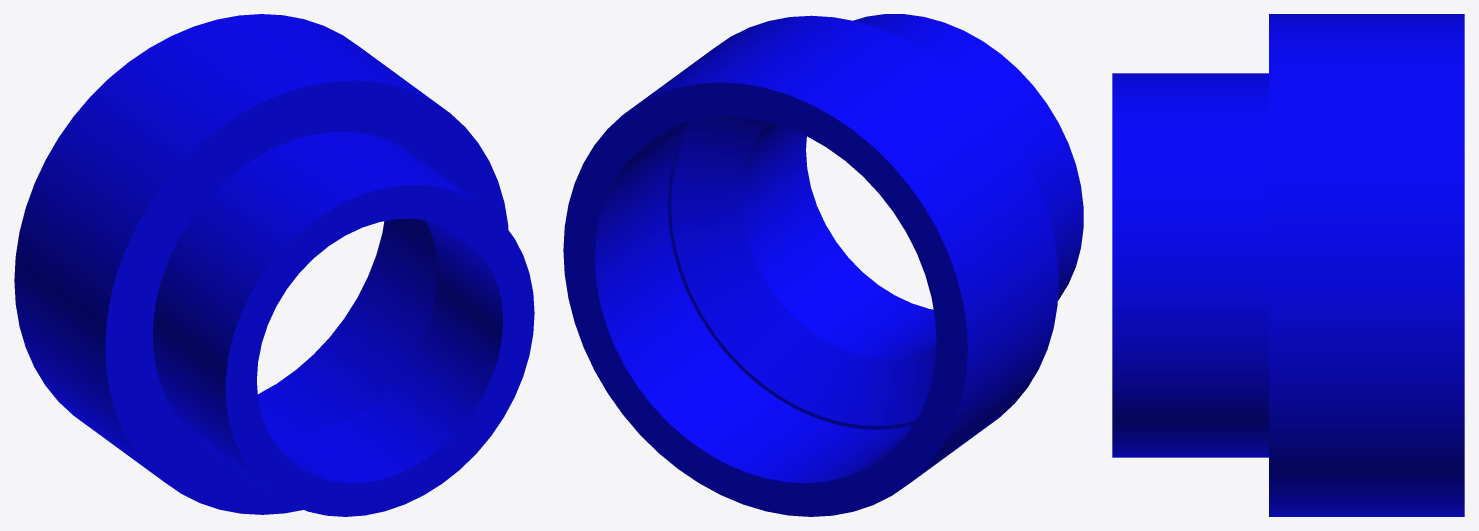
The model's file is Cube 1x1 V5_Filter Adapter (SM05).obj.
3 views of the same model, side by side, from view 1: azimuth 30°, elevation 25°; view 2: azimuth 150°, elevation 25°; view 3: azimuth 270°, elevation 25° (orthographic). The views are drawn at different scales.
Visible parts, largest first — view 1: Solid1:36; view 2: Solid1:36; view 3: Solid1:36.
Boxes of the visible parts, x1,y1,x2,y2 form: Solid1:36: (14, 14, 534, 516); Solid1:36: (563, 14, 1083, 516); Solid1:36: (1112, 14, 1464, 516).
Bounding box in the file's own units: 16.07 × 16.07 × 11.25.
